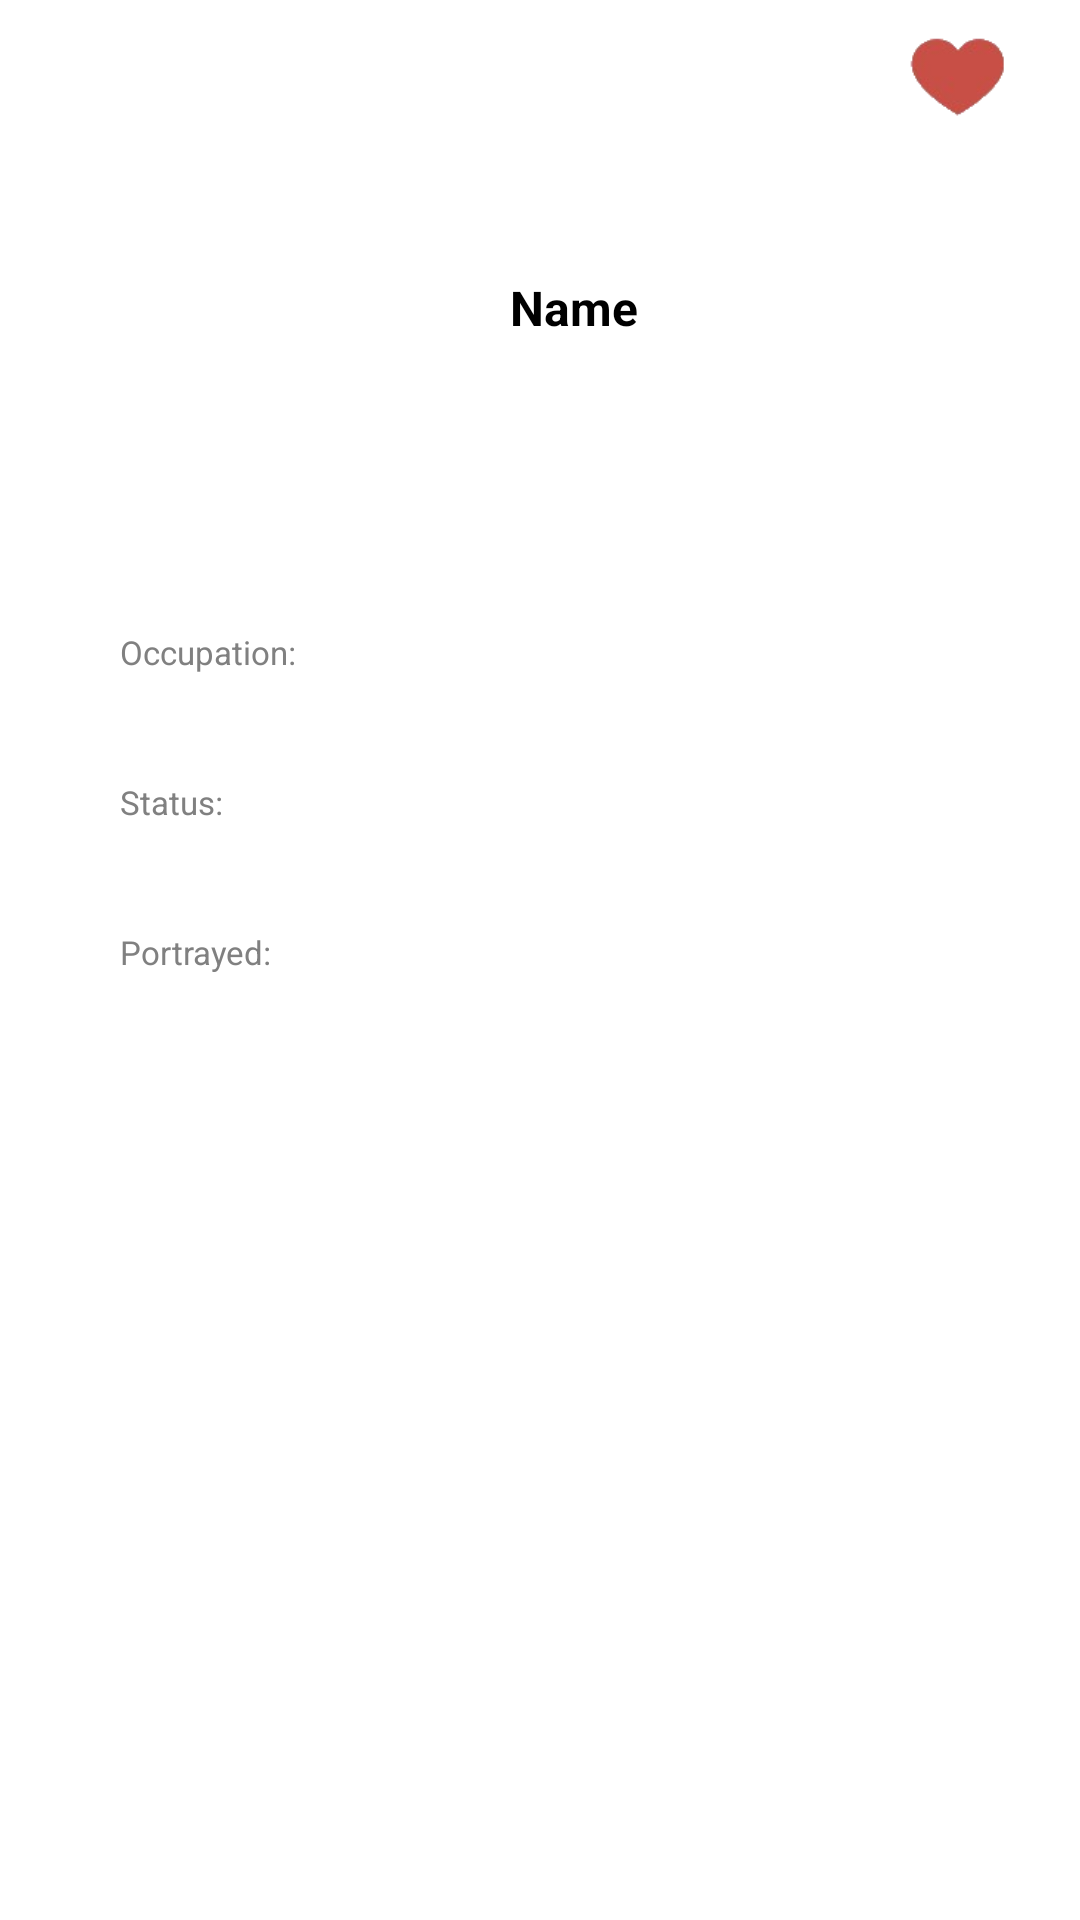

Point at icon controls on the screen. Image size 1080w x 1920h, points as (x=x, y=y).
heartfullf: (x=957, y=77)
